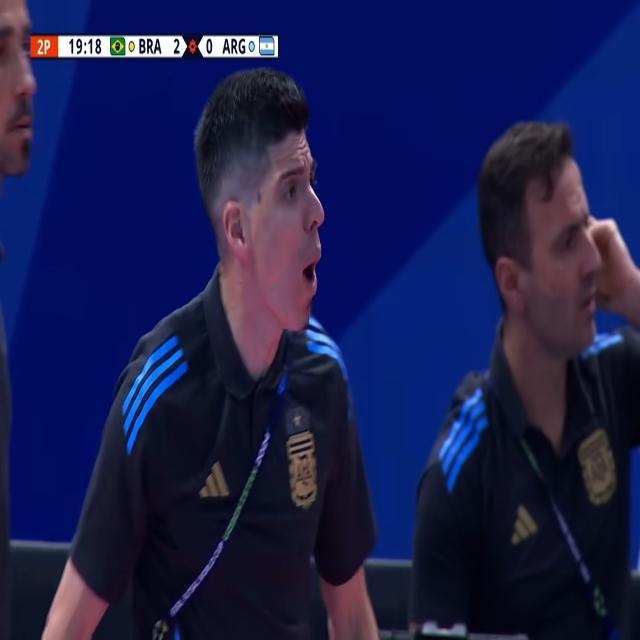Referee: (80, 70, 368, 625), (428, 125, 640, 634)
